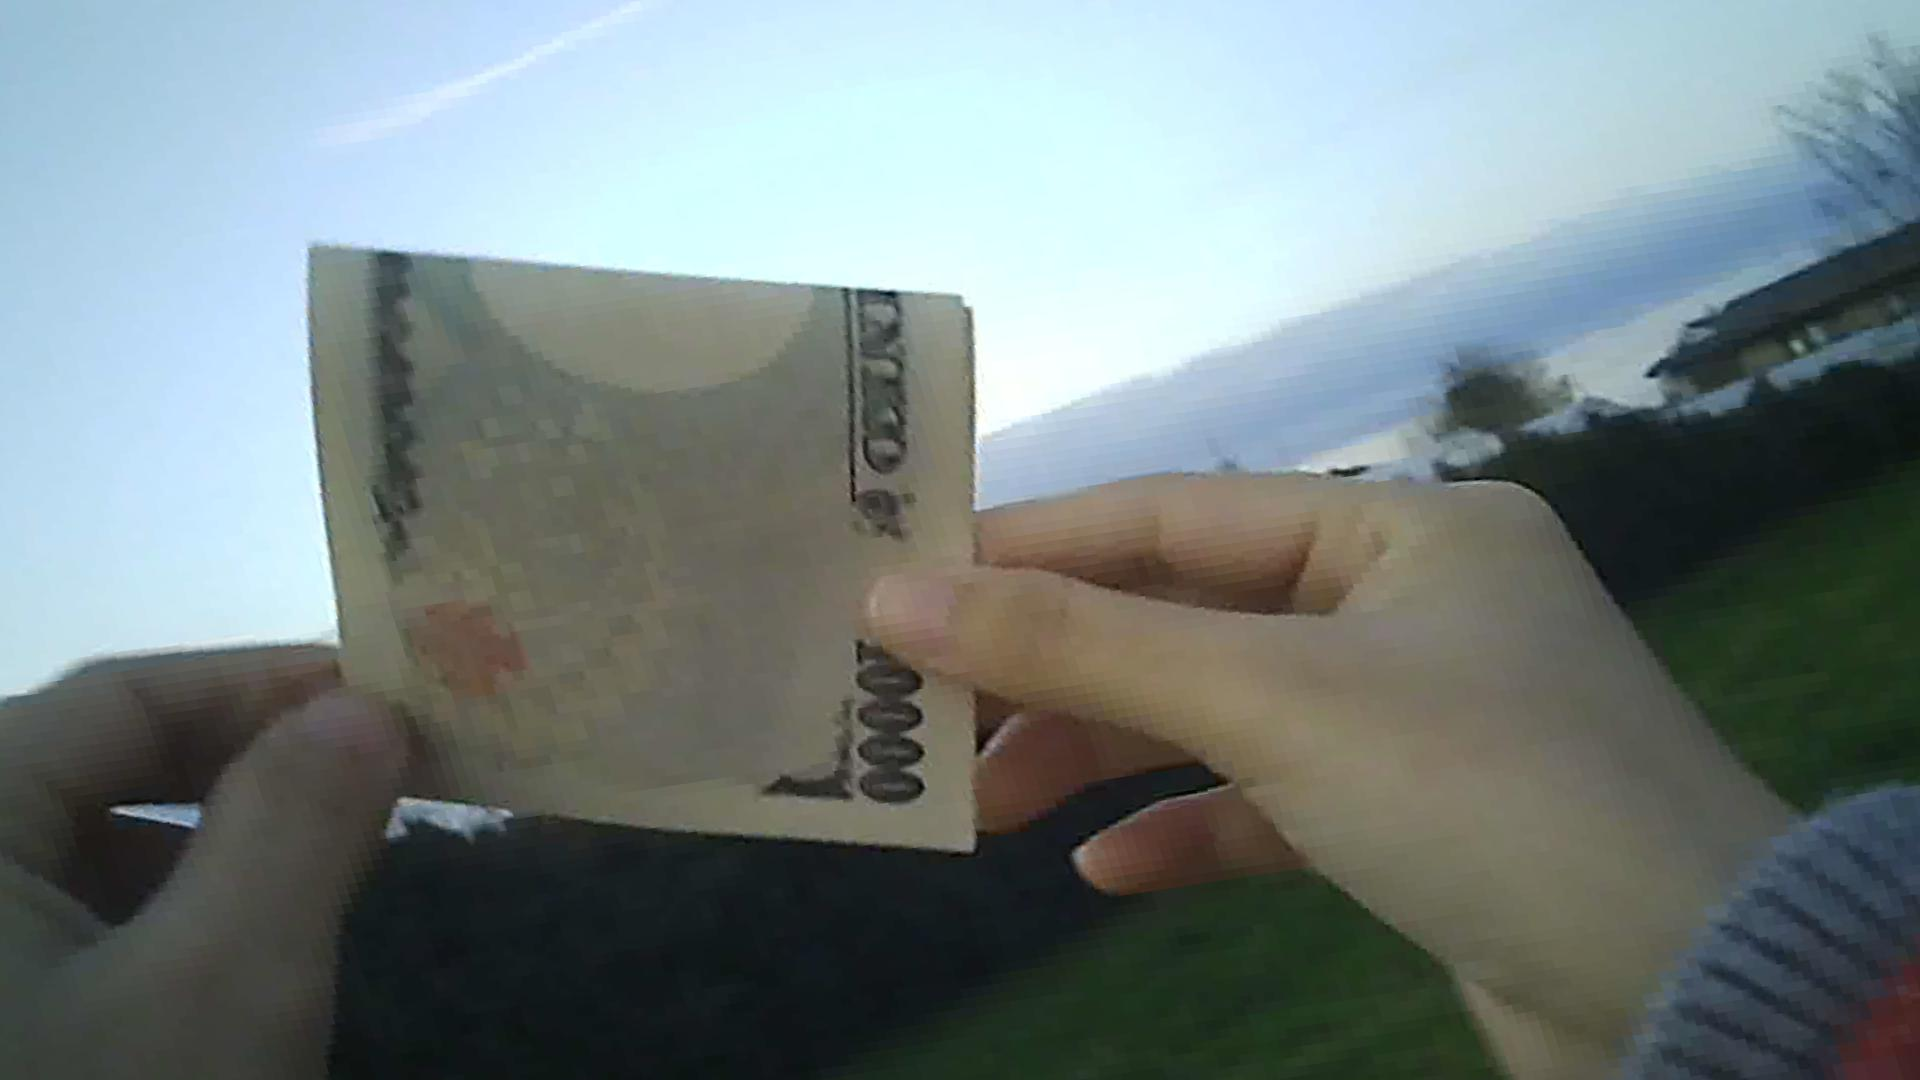10,000 Yen: (298, 227, 1029, 872)
